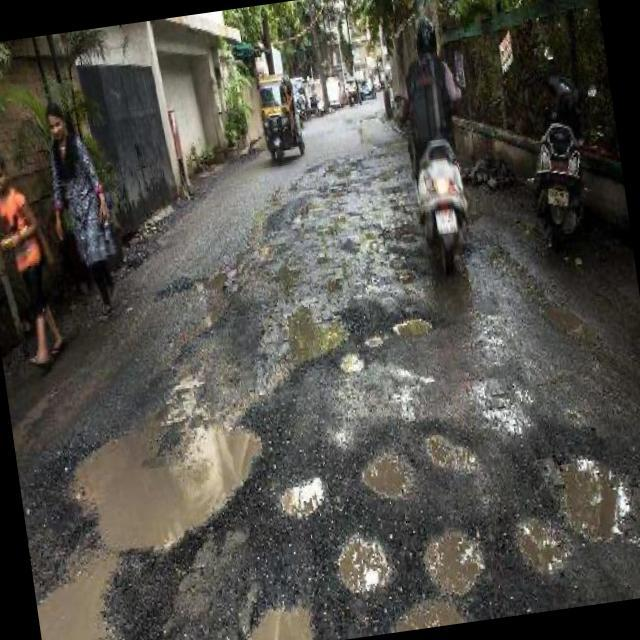Pothole: (77, 423, 261, 554), (396, 531, 485, 630), (549, 459, 630, 540), (37, 562, 113, 640), (336, 536, 393, 596), (471, 382, 532, 435), (289, 306, 346, 362), (516, 518, 567, 573), (362, 453, 412, 498), (248, 607, 313, 640), (426, 433, 476, 474), (394, 367, 431, 419), (165, 377, 203, 425), (281, 477, 325, 517), (548, 307, 585, 337), (393, 317, 431, 340), (340, 353, 364, 373), (365, 334, 384, 348)
